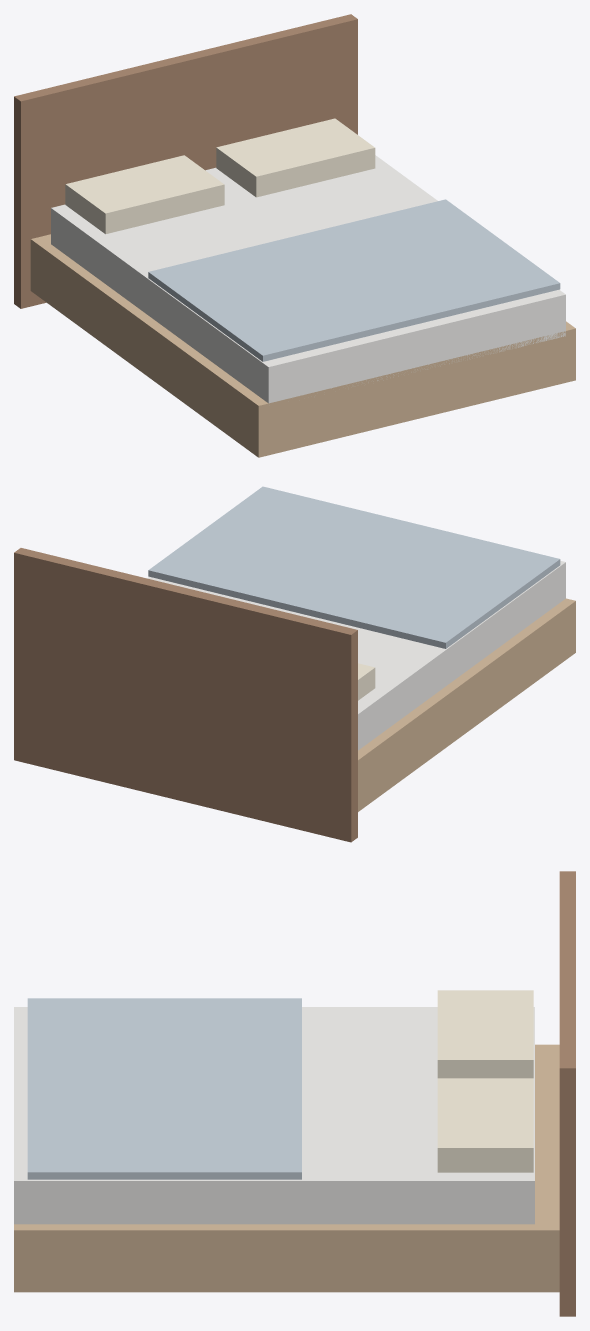
File: bed.glb
3 renders of one model, top to bottom at view 1: azimuth 30°, elevation 25°; view 2: azimuth 150°, elevation 25°; view 3: azimuth 270°, elevation 25°, orthographic. The views are drawn at different scales.
Visible parts, largest first — view 1: bed; view 2: bed; view 3: bed.
Boxes of the visible parts, left/top/right/bottom form: bed: left=14, top=14, right=575, bottom=457; bed: left=14, top=486, right=575, bottom=842; bed: left=14, top=871, right=575, bottom=1316.
Bounding box in the file's own units: 1.7 × 1 × 2.05.
